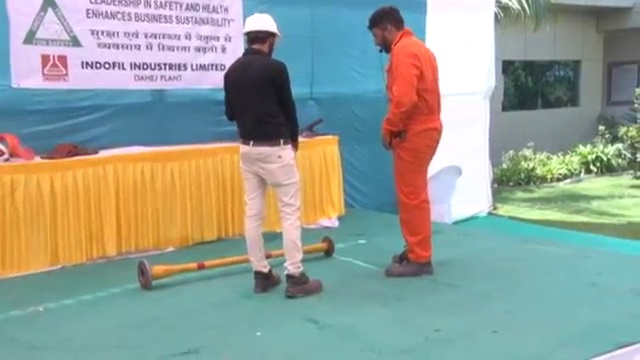helmet: (242, 12, 282, 39)
helmet_off: (365, 6, 409, 57)
helmet_on: (241, 13, 290, 55)
person: (224, 11, 323, 299), (366, 5, 444, 282)
